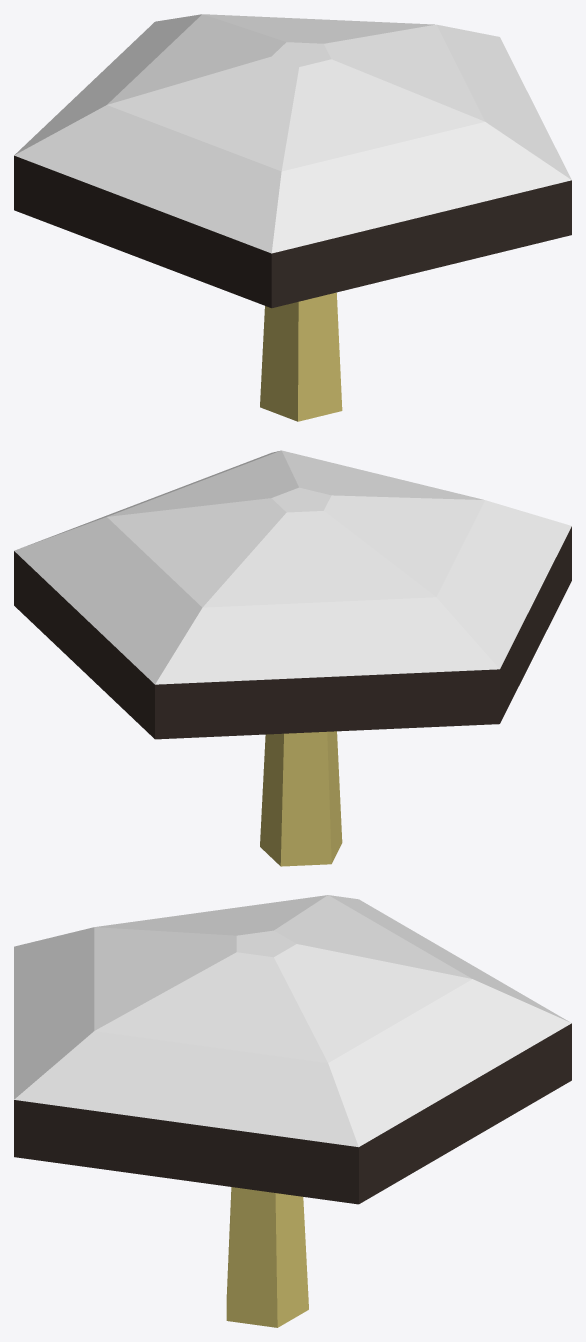
File: Mushroom_3_Snow.fbx
The picture shows the model from 3 angles, top to bottom: view 1: azimuth 30°, elevation 25°; view 2: azimuth 150°, elevation 25°; view 3: azimuth 270°, elevation 25°; orthographic projection. The views are drawn at different scales.
Visible parts, largest first — view 1: Mushroom_3_Snow; view 2: Mushroom_3_Snow; view 3: Mushroom_3_Snow.
Boxes of the visible parts, box(x1,y1,x2,y2) form: Mushroom_3_Snow: box(14, 14, 571, 421); Mushroom_3_Snow: box(14, 450, 571, 866); Mushroom_3_Snow: box(14, 895, 571, 1327).
Size of the model in its own units: 39.11 by 26.9 by 37.2.
